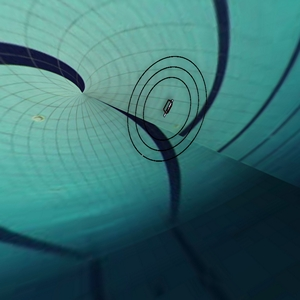circle: (112, 42, 239, 184)
submarine: (156, 94, 180, 122)
